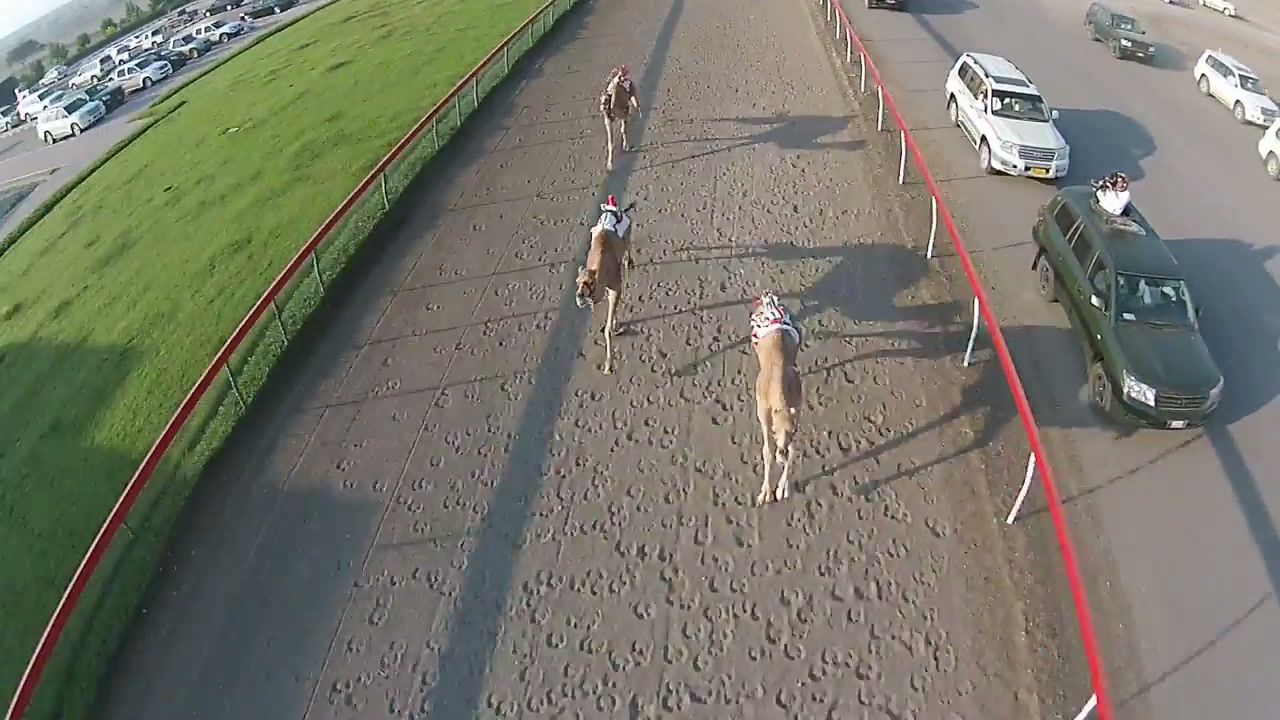animal_footprint: (606, 153, 973, 708), (369, 176, 591, 709)
